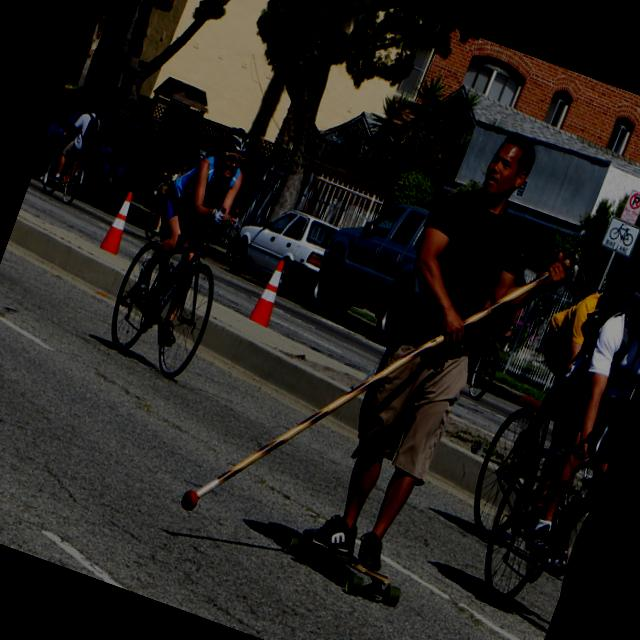Vehicle: (304, 183, 448, 346), (30, 91, 164, 216), (224, 194, 342, 308)
